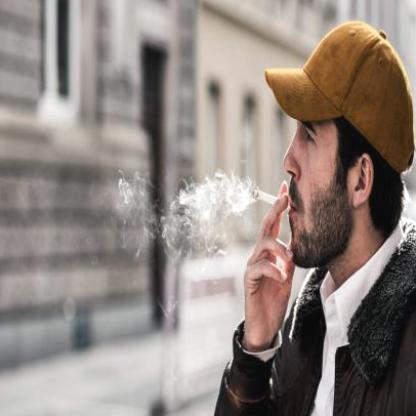cigarette: (252, 184, 275, 206)
person: (268, 20, 415, 415)
smoke: (168, 170, 252, 252), (115, 172, 142, 206)
